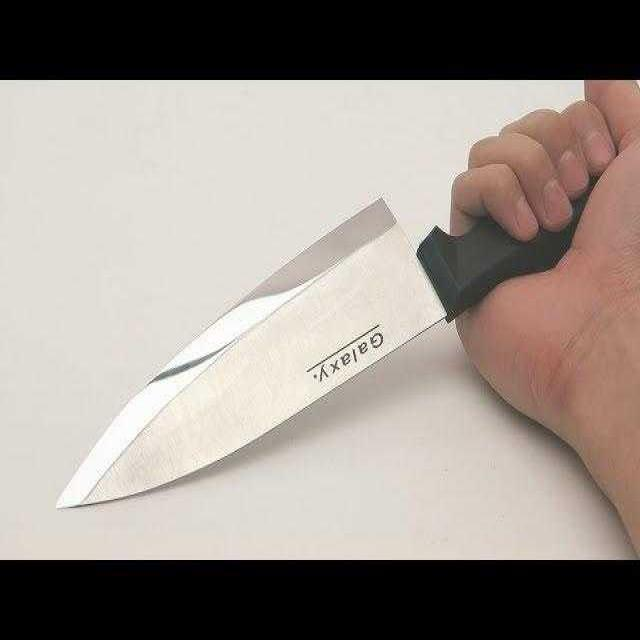knife: (52, 153, 599, 516)
